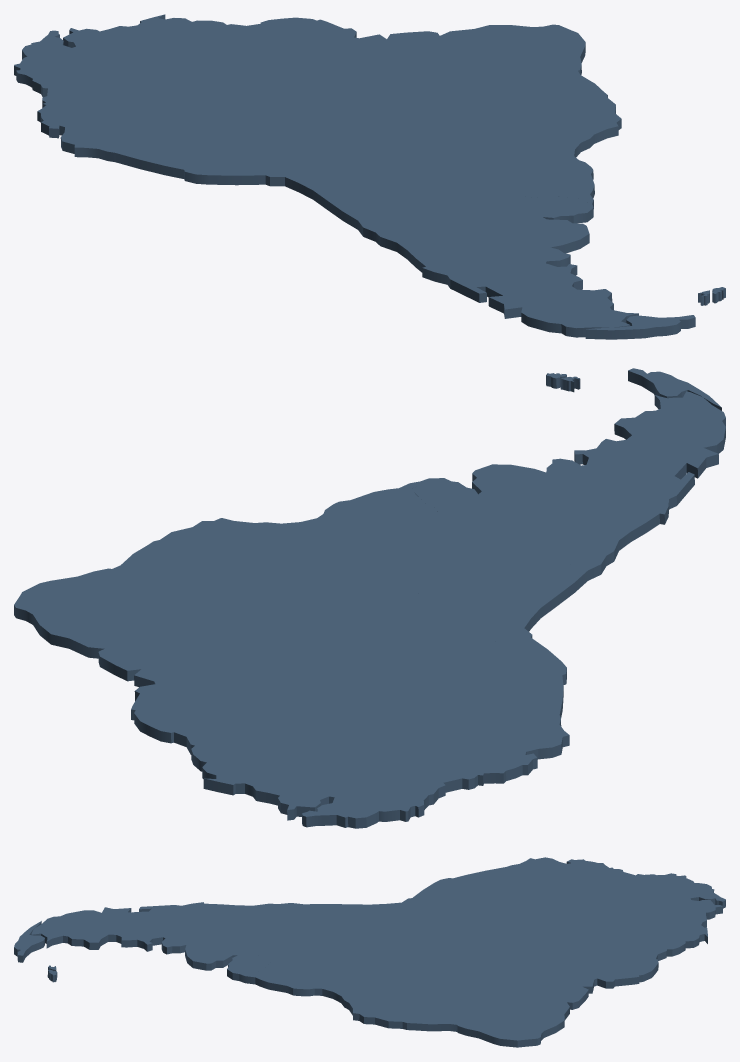
Rendered from SouthAmerica5.fbx.
3 renders of one model, top to bottom at view 1: azimuth 30°, elevation 25°; view 2: azimuth 150°, elevation 25°; view 3: azimuth 270°, elevation 25°, orthographic. The views are drawn at different scales.
Visible parts, largest first — view 1: Brazil, Plane.018, Plane.012, Colombia; view 2: Brazil, Plane.018, Plane.012, Colombia; view 3: Brazil, Plane.018, Plane.012, Colombia.
Boxes of the visible parts, x1,y1,x2,y2 form: Brazil: (141,19,621,208); Plane.018: (37,14,725,339); Plane.012: (355,169,695,328); Colombia: (14,30,181,109); Brazil: (14,481,497,748); Plane.018: (134,371,725,820); Plane.012: (378,368,703,594); Colombia: (302,713,483,828); Brazil: (239,886,649,1047); Plane.018: (14,857,723,982); Plane.012: (17,908,364,970); Colombia: (550,867,725,914).
Size of the model in its own units: 881 by 37.69 by 1444.
